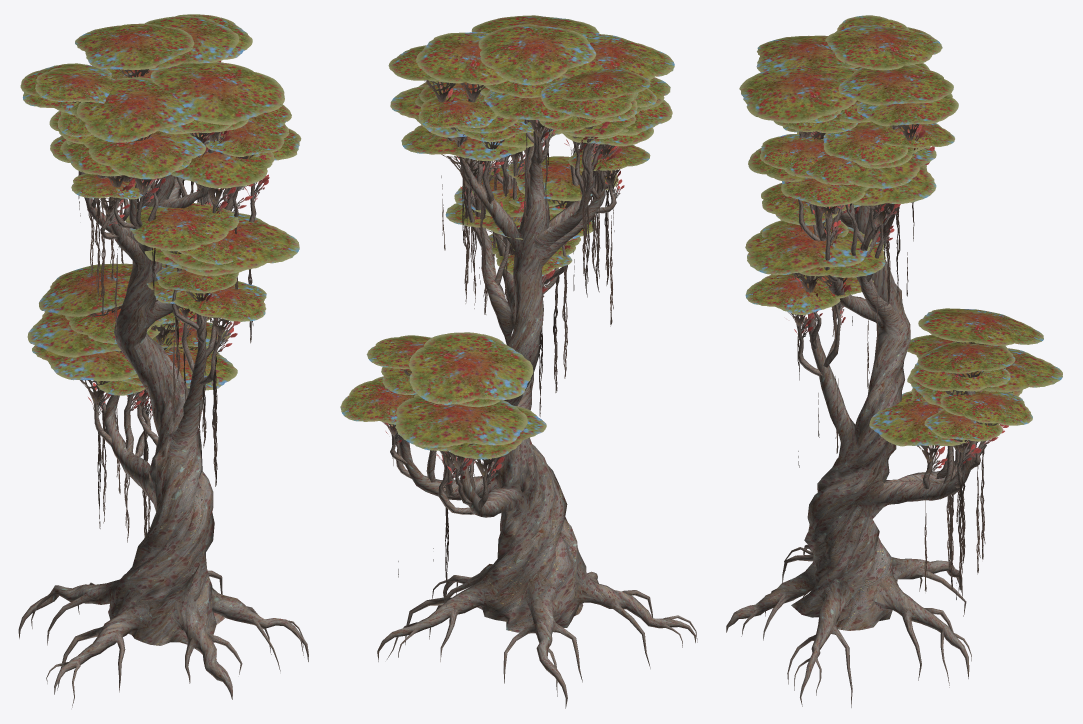
The model's file is Tree - Alien Shroomtree 02 1-DWpRYt9w.glb.
3 views of the same model, side by side, from view 1: azimuth 30°, elevation 25°; view 2: azimuth 150°, elevation 25°; view 3: azimuth 270°, elevation 25° (orthographic). The views are drawn at different scales.
Parts seen in each view (by area): view 1: Shroomtree_02_1(Clone); view 2: Shroomtree_02_1(Clone); view 3: Shroomtree_02_1(Clone).
Part boxes in pixels (left/top/right/bottom): Shroomtree_02_1(Clone): left=18, top=14, right=308, bottom=707; Shroomtree_02_1(Clone): left=340, top=15, right=697, bottom=708; Shroomtree_02_1(Clone): left=726, top=15, right=1062, bottom=707.
Bounding box in the file's own units: 3.77 × 8.72 × 4.4.
Materials: 3 (3 with a texture image).
